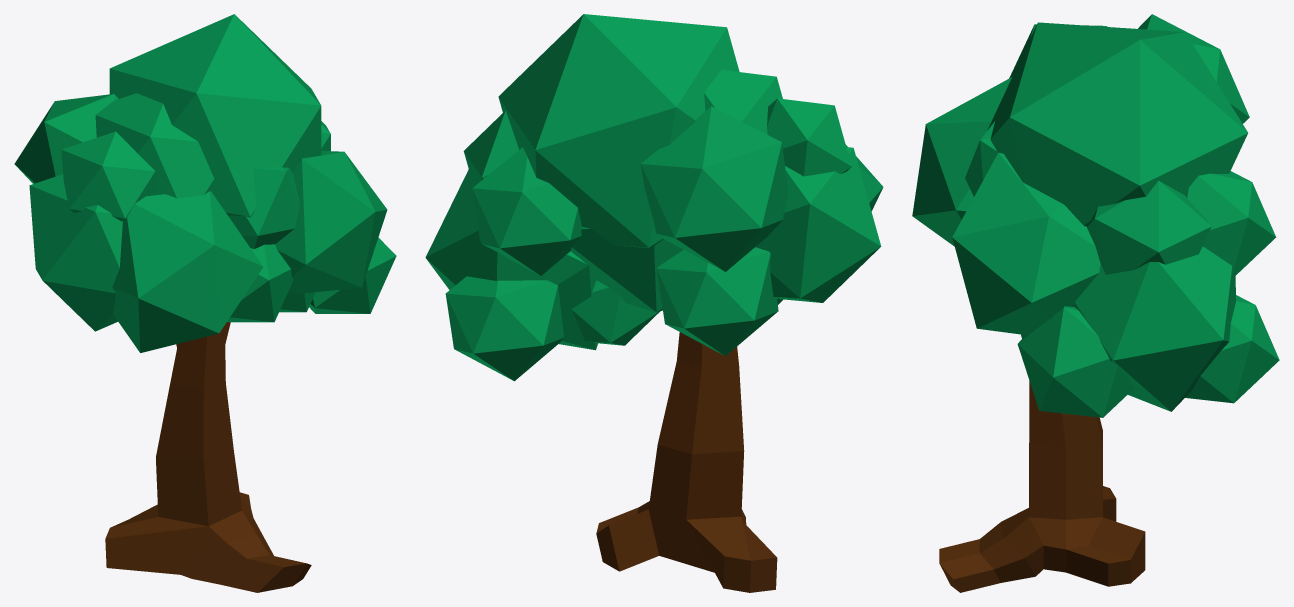
File: Arbolito4.fbx
3 renders of one model, left to right at view 1: azimuth 30°, elevation 25°; view 2: azimuth 150°, elevation 25°; view 3: azimuth 270°, elevation 25°, orthographic. The views are drawn at different scales.
Visible parts, largest first — view 1: Arbolito4; view 2: Arbolito4; view 3: Arbolito4.
Boxes of the visible parts, box(x1,y1,x2,y2) form: Arbolito4: box(14, 14, 396, 592); Arbolito4: box(425, 14, 883, 592); Arbolito4: box(912, 14, 1279, 592).
Bounding box in the file's own units: 0.3355 × 0.4567 × 0.2714.
